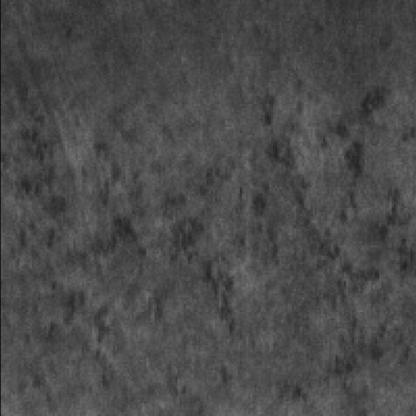rolled-in_scale: (222, 71, 414, 374), (10, 124, 246, 356)
